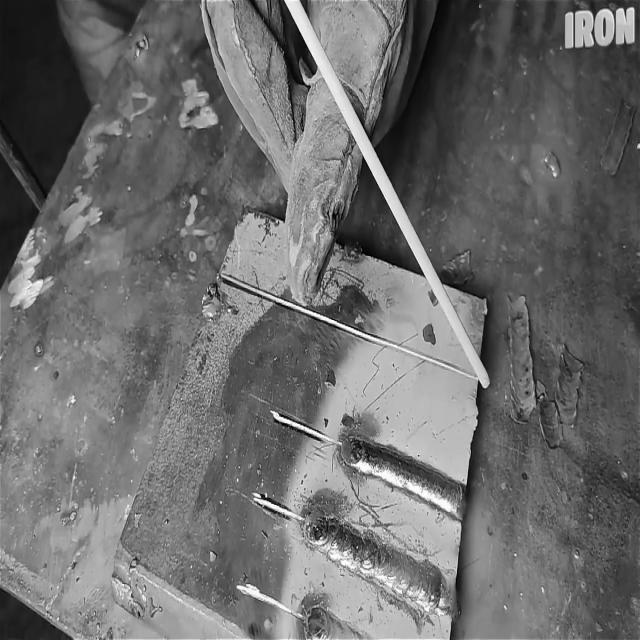Good Welding: (339, 534, 450, 612), (364, 448, 464, 506)
